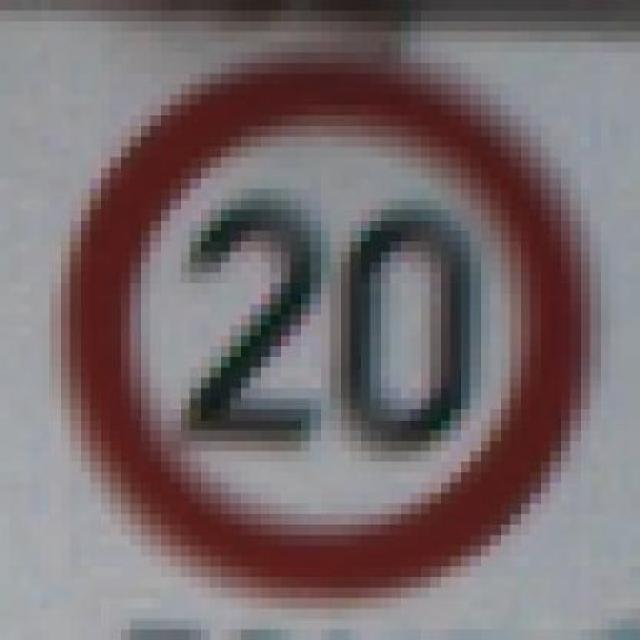speed limit 20: (61, 53, 590, 599)
